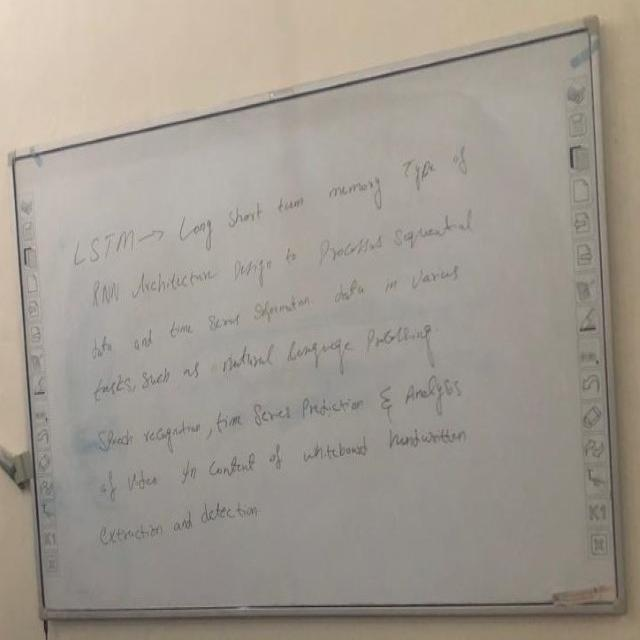White-board: (13, 24, 621, 621)
